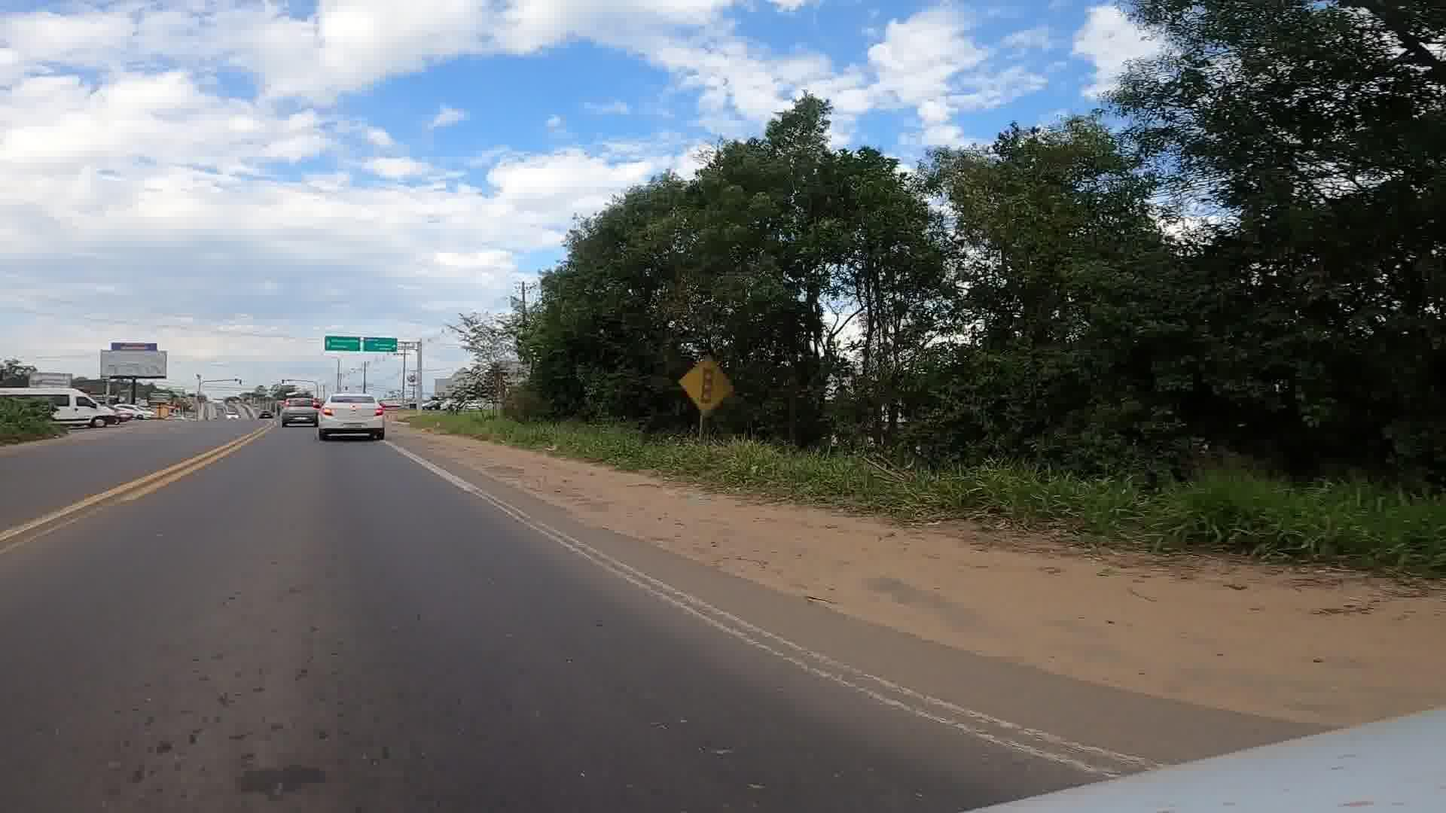A-14: (676, 357, 736, 416)
